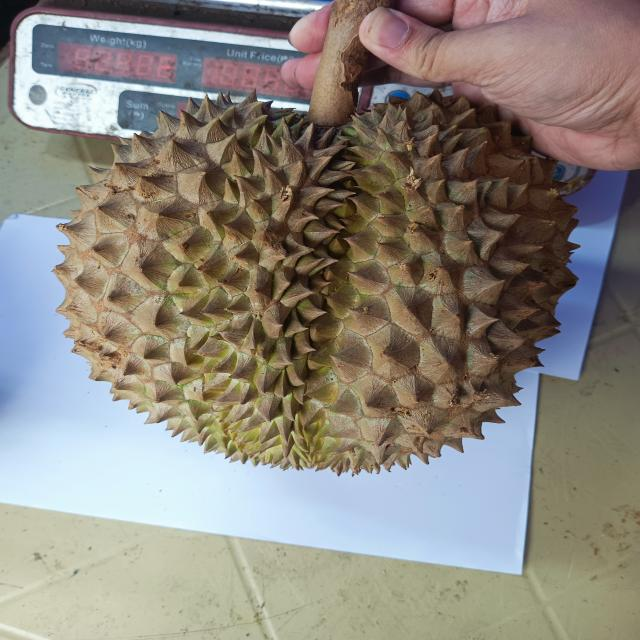mature: (55, 0, 577, 474)
